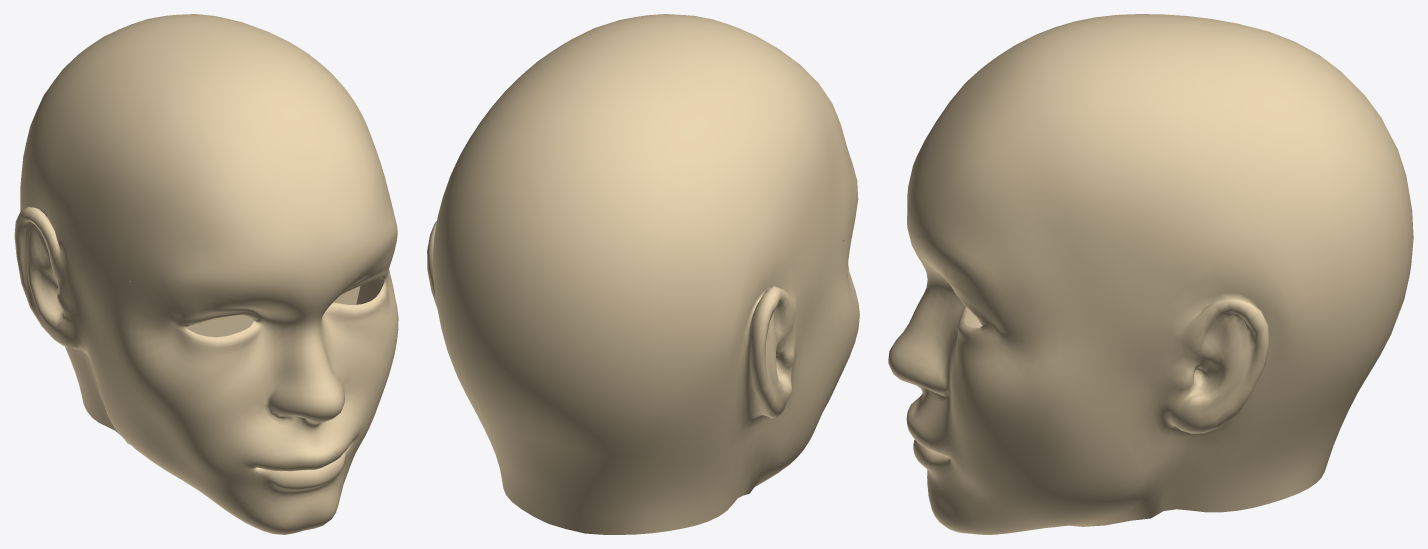
Rendered from alenka4.gltf.
3 renders of one model, left to right at view 1: azimuth 30°, elevation 25°; view 2: azimuth 150°, elevation 25°; view 3: azimuth 270°, elevation 25°, orthographic. The views are drawn at different scales.
Visible parts, largest first — view 1: Win Alenka.004, divider; view 2: Win Alenka.004; view 3: Win Alenka.004.
Boxes of the visible parts, x1=… form: Win Alenka.004: x1=14, y1=14, x2=398, y2=534; divider: x1=130, y1=281, x2=360, y2=337; Win Alenka.004: x1=427, y1=14, x2=859, y2=534; Win Alenka.004: x1=888, y1=14, x2=1413, y2=534.
Bounding box in the file's own units: 15.53 × 20.95 × 20.43.
